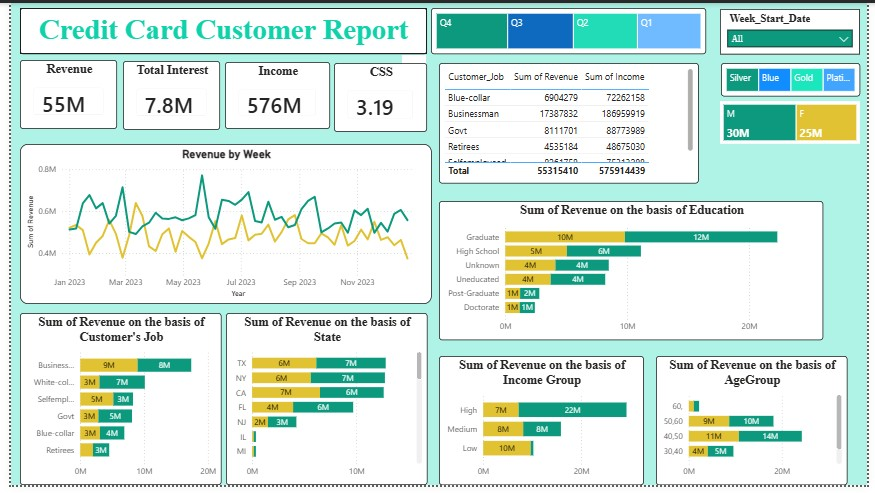

What the dashboard file says about the page in this screenshot:
{"tool":"powerbi","page":{"name":"Customer","canvas":[1280,720],"ordinal":1},"visuals":[{"type":"slicer","fields":{"Values":["credit_card_detail.Week_Start_Date"]},"box":[1059.4,8.8,208.7,67.6],"z":0},{"type":"treemap","fields":{"Values":["Avg(credit_card_detail.Client_Num)"],"Group":["credit_card_detail.Card_Category"]},"box":[1059.9,89,208.3,50.4],"z":1000},{"type":"barChart","title":"Sum of Revenue on the basis of State","fields":{"Y":["Sum(credit_card_detail.Revenue)"],"Category":["customer_detail.State_cd"],"Series":["customer_detail.Gender"]},"box":[320.8,463.6,300.7,257],"z":2000},{"type":"textbox","box":[13.2,7.3,608.3,69.1],"z":3000},{"type":"tableEx","fields":{"Values":["customer_detail.Customer_Job","Sum(credit_card_detail.Revenue)","Sum(customer_detail.Income)"]},"box":[640,89,388,179.7],"z":4000},{"type":"cardVisual","title":"Revenue","fields":{"Data":["Sum(credit_card_detail.Revenue)"]},"box":[13.2,85.2,145.5,102.9],"z":5000},{"type":"cardVisual","title":"Total Interest","fields":{"Data":["Sum(credit_card_detail.Interest_Earned)"]},"box":[167.5,86.7,145.5,102.9],"z":6000},{"type":"cardVisual","title":"Income","fields":{"Data":["Sum(customer_detail.Income)"]},"box":[319.7,88.1,156.8,100.1],"z":7000},{"type":"cardVisual","title":"CSS","fields":{"Data":["Avg(customer_detail.Cust_Satisfaction_Score)"]},"box":[482.5,89.6,138.9,103.1],"z":8000},{"type":"treemap","fields":{"Group":["credit_card_detail.Qtr"],"Values":["Avg(credit_card_detail.Client_Num)"]},"box":[627.4,7.3,411.4,69.1],"z":9000},{"type":"lineChart","title":"Revenue by Week","fields":{"Y":["Sum(credit_card_detail.Revenue)"],"Series":["customer_detail.Gender"],"Category":["credit_card_detail.Week_Start_Date.Variation.Date Hierarchy.Year","credit_card_detail.Week_Start_Date.Variation.Date Hierarchy.Month","credit_card_detail.Week_Start_Date.Variation.Date Hierarchy.Day"]},"box":[13.4,210,614.8,238.5],"z":10000},{"type":"treemap","fields":{"Values":["Sum(credit_card_detail.Revenue)"],"Group":["customer_detail.Gender"]},"box":[1059.1,146.4,209.1,64.2],"z":11000},{"type":"barChart","title":"Sum of Revenue on the basis of Income Group","fields":{"Y":["Sum(credit_card_detail.Revenue)"],"Category":["customer_detail.IncomeGroup"],"Series":["customer_detail.Gender"]},"box":[640,527.5,305.7,193.2],"z":12000},{"type":"barChart","title":"Sum of Revenue on the basis of AgeGroup","fields":{"Y":["Sum(credit_card_detail.Revenue)"],"Category":["customer_detail.AgeGroup"],"Series":["customer_detail.Gender"]},"box":[964.2,527.5,285.6,193.2],"z":13000},{"type":"barChart","title":"Sum of Revenue on the basis of Customer''s Job","fields":{"Y":["Sum(credit_card_detail.Revenue)"],"Category":["customer_detail.Customer_Job"],"Series":["customer_detail.Gender"]},"box":[13.4,463.6,300.7,257],"z":14000},{"type":"barChart","title":"Sum of Revenue on the basis of Education","fields":{"Y":["Sum(credit_card_detail.Revenue)"],"Category":["customer_detail.Education_Level"],"Series":["customer_detail.Gender"]},"box":[640,295.6,574.5,208.3],"z":15000}]}

Visuals, with their boxes in screenshot pixels (x1, y1, x2, y2), scaled from the page's 1280x720 canvas onto the 875x493 screenshot:
slicer - credit_card_detail.Week_Start_Date: l=724, t=6, r=867, b=52
treemap - Avg(credit_card_detail.Client_Num) x credit_card_detail.Card_Category: l=725, t=61, r=867, b=95
"Sum of Revenue on the basis of State" barChart: l=219, t=317, r=425, b=492
textbox: l=9, t=5, r=425, b=52
tableEx - customer_detail.Customer_Job x Sum(credit_card_detail.Revenue): l=438, t=61, r=703, b=184
"Revenue" cardVisual: l=9, t=58, r=108, b=129
"Total Interest" cardVisual: l=115, t=59, r=214, b=130
"Income" cardVisual: l=219, t=60, r=326, b=129
"CSS" cardVisual: l=330, t=61, r=425, b=132
treemap - credit_card_detail.Qtr x Avg(credit_card_detail.Client_Num): l=429, t=5, r=710, b=52
"Revenue by Week" lineChart: l=9, t=144, r=429, b=307
treemap - Sum(credit_card_detail.Revenue) x customer_detail.Gender: l=724, t=100, r=867, b=144
"Sum of Revenue on the basis of Income Group" barChart: l=438, t=361, r=646, b=492
"Sum of Revenue on the basis of AgeGroup" barChart: l=659, t=361, r=854, b=492
"Sum of Revenue on the basis of Customer''s Job" barChart: l=9, t=317, r=215, b=492
"Sum of Revenue on the basis of Education" barChart: l=438, t=202, r=830, b=345
